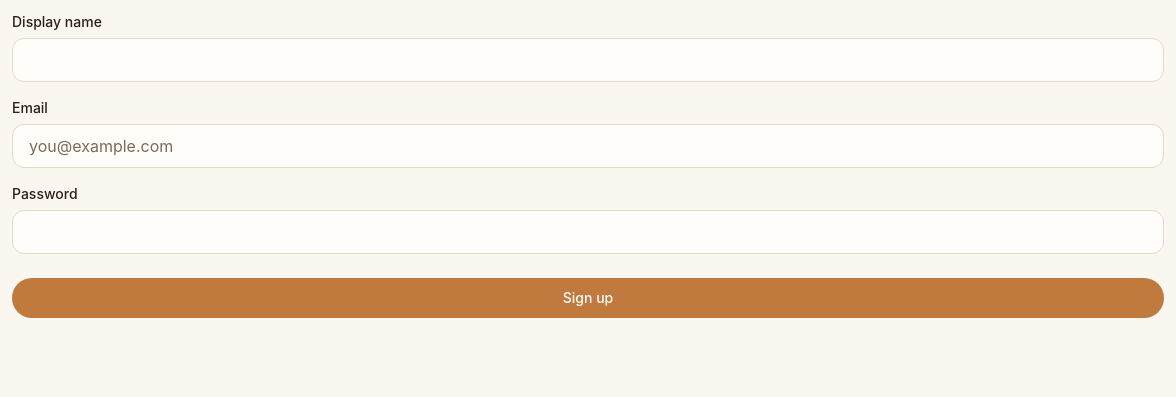
Test case: RegisterForm › maps email_already_registered to its own copy
This screenshot has width=1176, height=397.
Type "Ada" into the field labelled "Display name" at (588,60), box 12,38 -> 1164,82
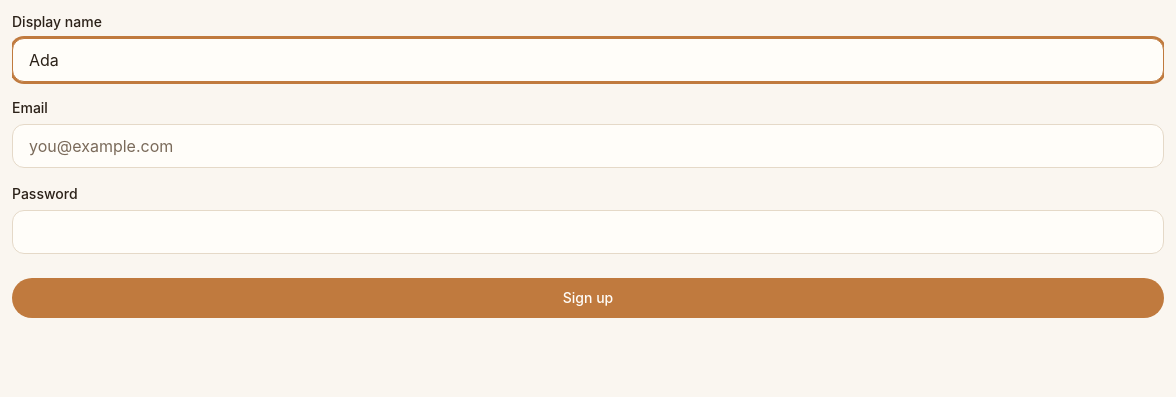
Type "ada@example.com" into the field labelled "Email" at (588,146), box 12,124 -> 1164,168
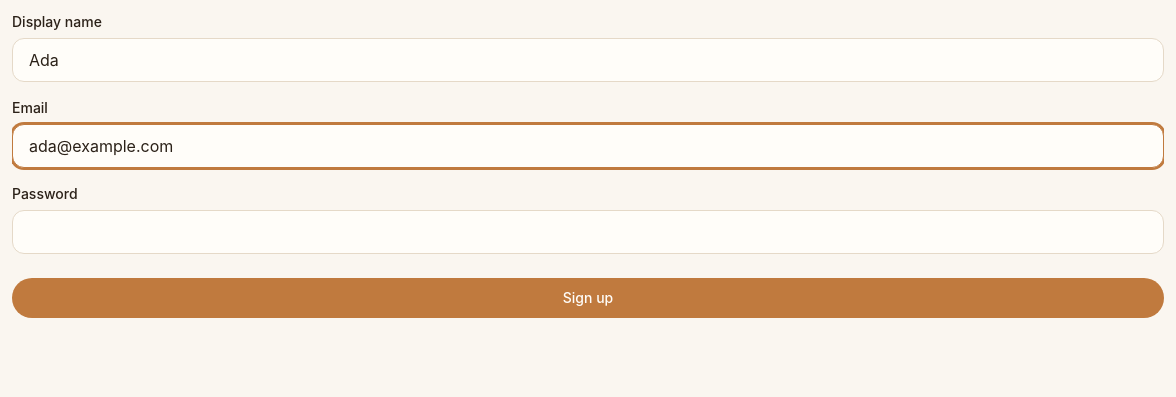
Type "espresso42" into the password field labelled "Password" at (588,232), box 12,210 -> 1164,254
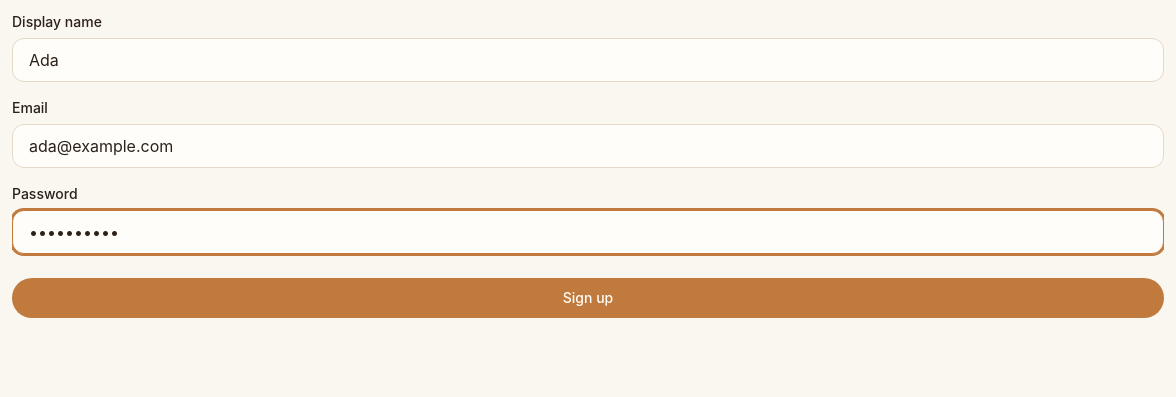
Click the button "Sign up" at (588,298), box 12,278 -> 1164,318
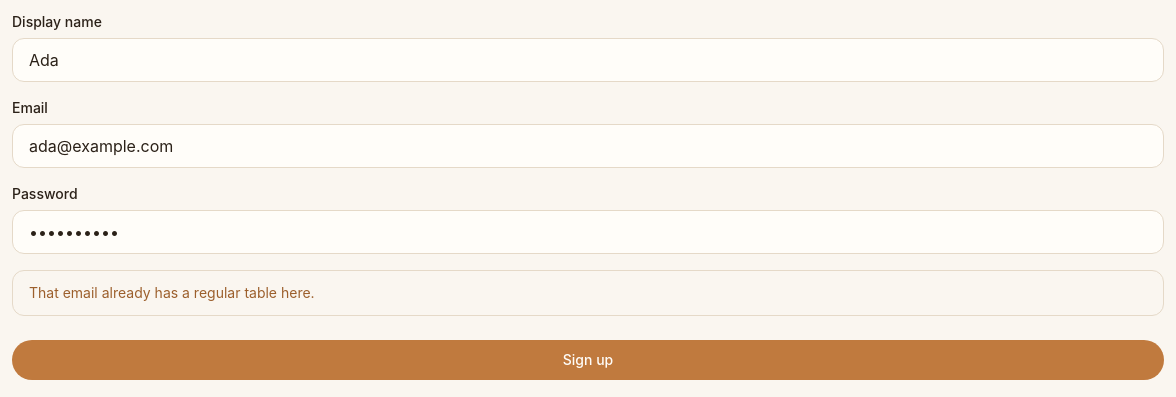
Check: the text "That email already has a regular table here." is shown, box 12,270 -> 1164,316
